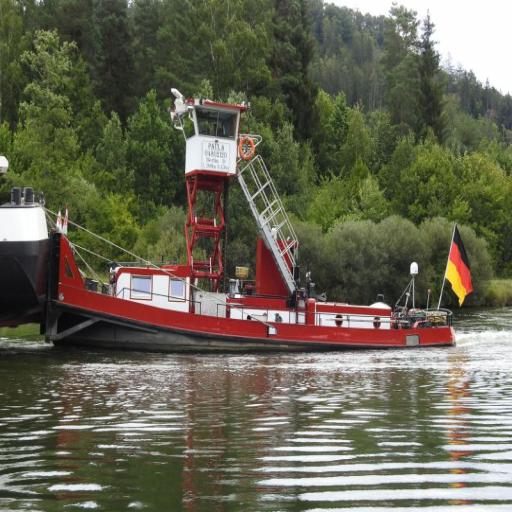tugboat: (46, 84, 464, 360)
